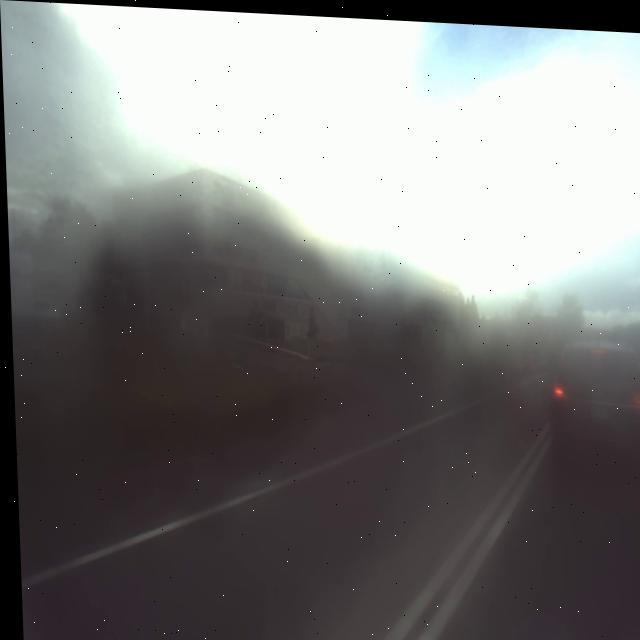car: (543, 307, 640, 483)
